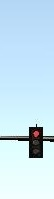Red: (29, 126, 43, 158)
